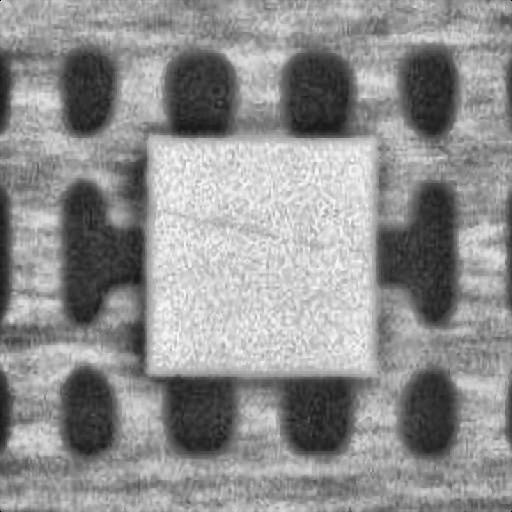DIE_CRACK: (220, 136, 480, 163)
